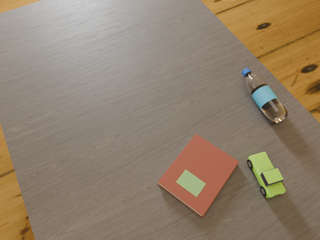book: (158, 134, 239, 217)
bottle: (242, 68, 288, 124)
toy_car: (247, 152, 286, 198)
